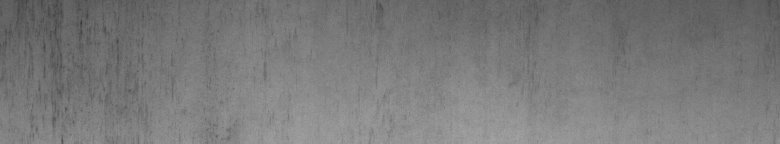ka: (43, 11, 119, 127)
